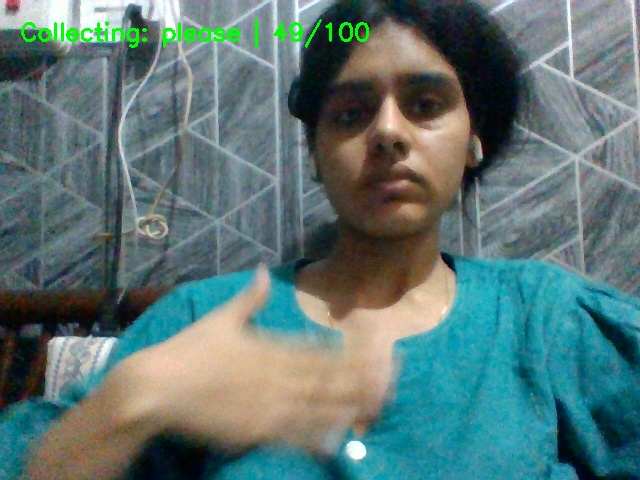please: (121, 259, 376, 465)
